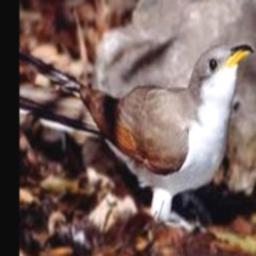Cuckoo: (20, 44, 254, 226)
